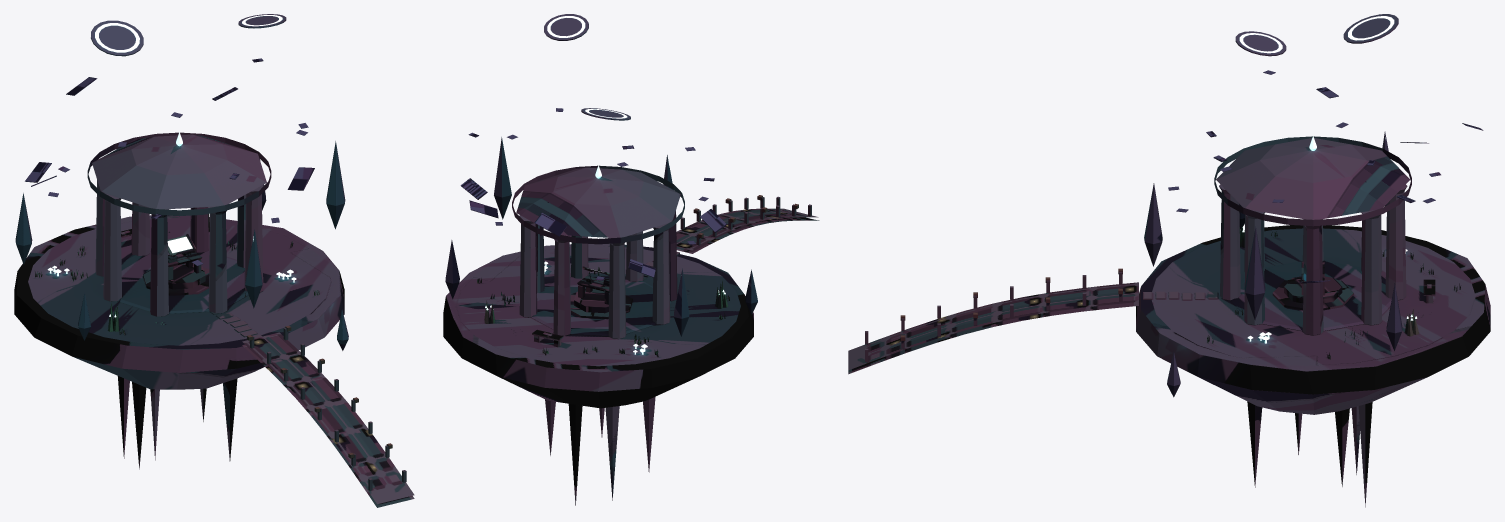
Rendered from landmark-resume.glb.
3 views of the same model, side by side, from view 1: azimuth 30°, elevation 25°; view 2: azimuth 150°, elevation 25°; view 3: azimuth 270°, elevation 25° (orthographic). The views are drawn at different scales.
Visible parts, largest first — view 1: resume_island_moss, resume_island_disc, resume_hall_dome, resume_hall_columns, resume_bridge_arch, resume_hall_floor, resume_spires_bodies, resume_hall_dome_trim, resume_sigils_bodies, resume_hall_dais, resume_floating_tomes, resume_bridge_posts (+1 smaller); view 2: resume_island_disc, resume_island_moss, resume_hall_columns, resume_hall_dome, resume_hall_floor, resume_spires_bodies, resume_bridge_arch, resume_hall_dome_trim, resume_floating_tomes, resume_sigils_bodies, resume_hall_dais, resume_bridge_posts; view 3: resume_island_moss, resume_island_disc, resume_hall_dome, resume_hall_columns, resume_bridge_arch, resume_hall_floor, resume_spires_bodies, resume_hall_dome_trim, resume_sigils_bodies, resume_hall_dais, resume_bridge_posts.
Part boxes in pixels (left/top/right/bottom): resume_island_moss: left=28, top=217, right=330, bottom=345; resume_island_disc: left=14, top=215, right=344, bottom=469; resume_hall_dome: left=92, top=134, right=266, bottom=209; resume_hall_columns: left=95, top=180, right=263, bottom=316; resume_bridge_arch: left=242, top=332, right=414, bottom=507; resume_hall_floor: left=102, top=251, right=248, bottom=313; resume_spires_bodies: left=15, top=141, right=348, bottom=350; resume_hall_dome_trim: left=87, top=132, right=271, bottom=216; resume_sigils_bodies: left=91, top=14, right=286, bottom=56; resume_hall_dais: left=143, top=263, right=209, bottom=295; resume_floating_tomes: left=25, top=77, right=314, bottom=190; resume_bridge_posts: left=250, top=327, right=406, bottom=490; resume_island_disc: left=443, top=243, right=753, bottom=505; resume_island_moss: left=456, top=246, right=740, bottom=366; resume_hall_columns: left=519, top=211, right=677, bottom=338; resume_hall_dome: left=516, top=167, right=680, bottom=237; resume_hall_floor: left=531, top=275, right=670, bottom=336; resume_spires_bodies: left=445, top=137, right=757, bottom=336; resume_bridge_arch: left=676, top=208, right=819, bottom=253; resume_hall_dome_trim: left=512, top=165, right=684, bottom=244; resume_floating_tomes: left=460, top=178, right=726, bottom=277; resume_sigils_bodies: left=544, top=14, right=630, bottom=120; resume_hall_dais: left=570, top=289, right=632, bottom=319; resume_bridge_posts: left=680, top=196, right=811, bottom=245; resume_island_moss: left=1151, top=228, right=1475, bottom=364; resume_island_disc: left=1136, top=225, right=1490, bottom=507; resume_hall_dome: left=1216, top=138, right=1410, bottom=219; resume_hall_columns: left=1219, top=184, right=1407, bottom=335; resume_bridge_arch: left=848, top=282, right=1138, bottom=374; resume_hall_floor: left=1230, top=261, right=1391, bottom=330; resume_spires_bodies: left=1144, top=131, right=1402, bottom=397; resume_hall_dome_trim: left=1214, top=136, right=1411, bottom=226; resume_sigils_bodies: left=1235, top=14, right=1398, bottom=56; resume_hall_dais: left=1272, top=276, right=1353, bottom=310; resume_bridge_posts: left=865, top=271, right=1122, bottom=361.
Bounding box in the file's own units: 12.4 × 19 × 22.11.
19 materials, 15 textured.
